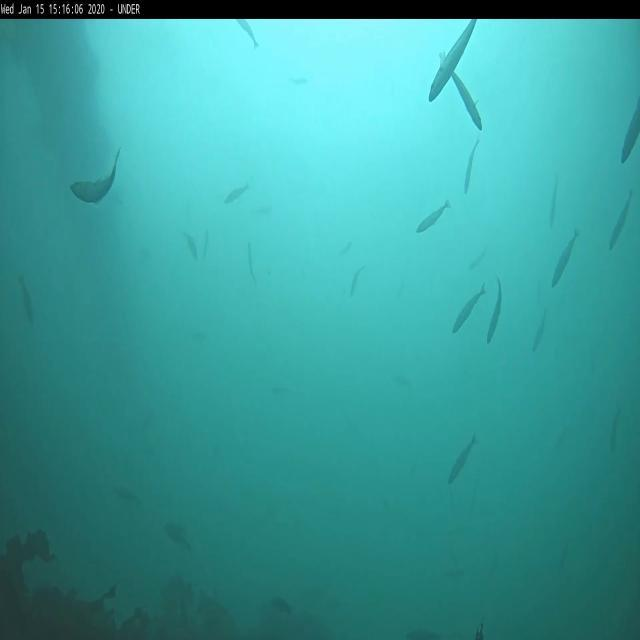fish: (427, 20, 477, 101), (440, 52, 483, 131), (70, 148, 120, 206), (453, 284, 485, 331), (552, 232, 579, 286), (448, 435, 476, 485), (610, 190, 632, 250), (416, 199, 451, 234), (621, 102, 640, 163), (17, 272, 35, 324), (466, 134, 480, 194), (238, 19, 259, 52), (532, 309, 546, 354), (164, 526, 189, 550), (180, 232, 198, 262), (224, 182, 247, 205), (610, 412, 622, 456), (246, 242, 258, 284), (350, 265, 364, 300), (550, 174, 558, 228), (118, 488, 140, 506), (470, 250, 488, 266), (288, 76, 308, 85), (203, 230, 208, 262)
